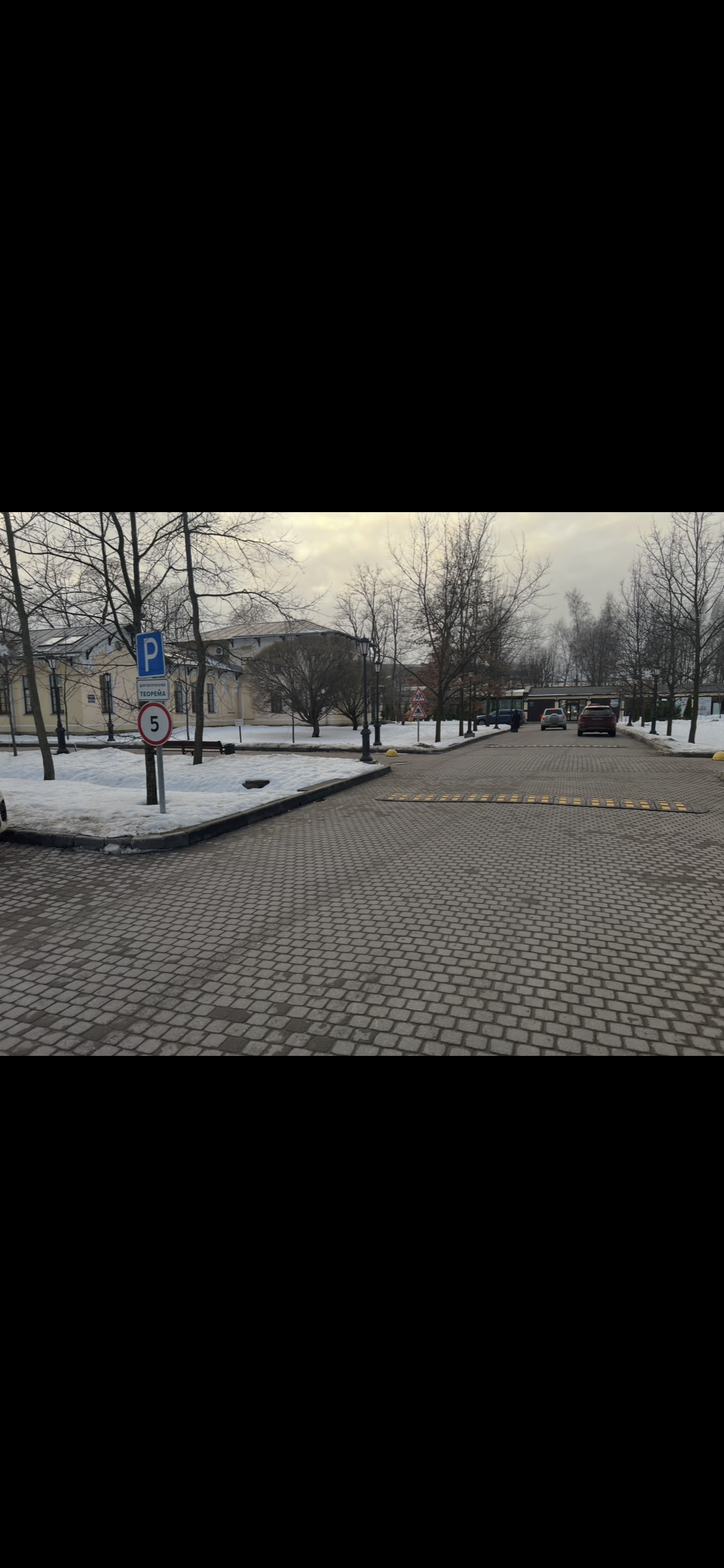road sign: (136, 631, 165, 677), (137, 679, 169, 701), (410, 702, 427, 717), (410, 687, 427, 702)
